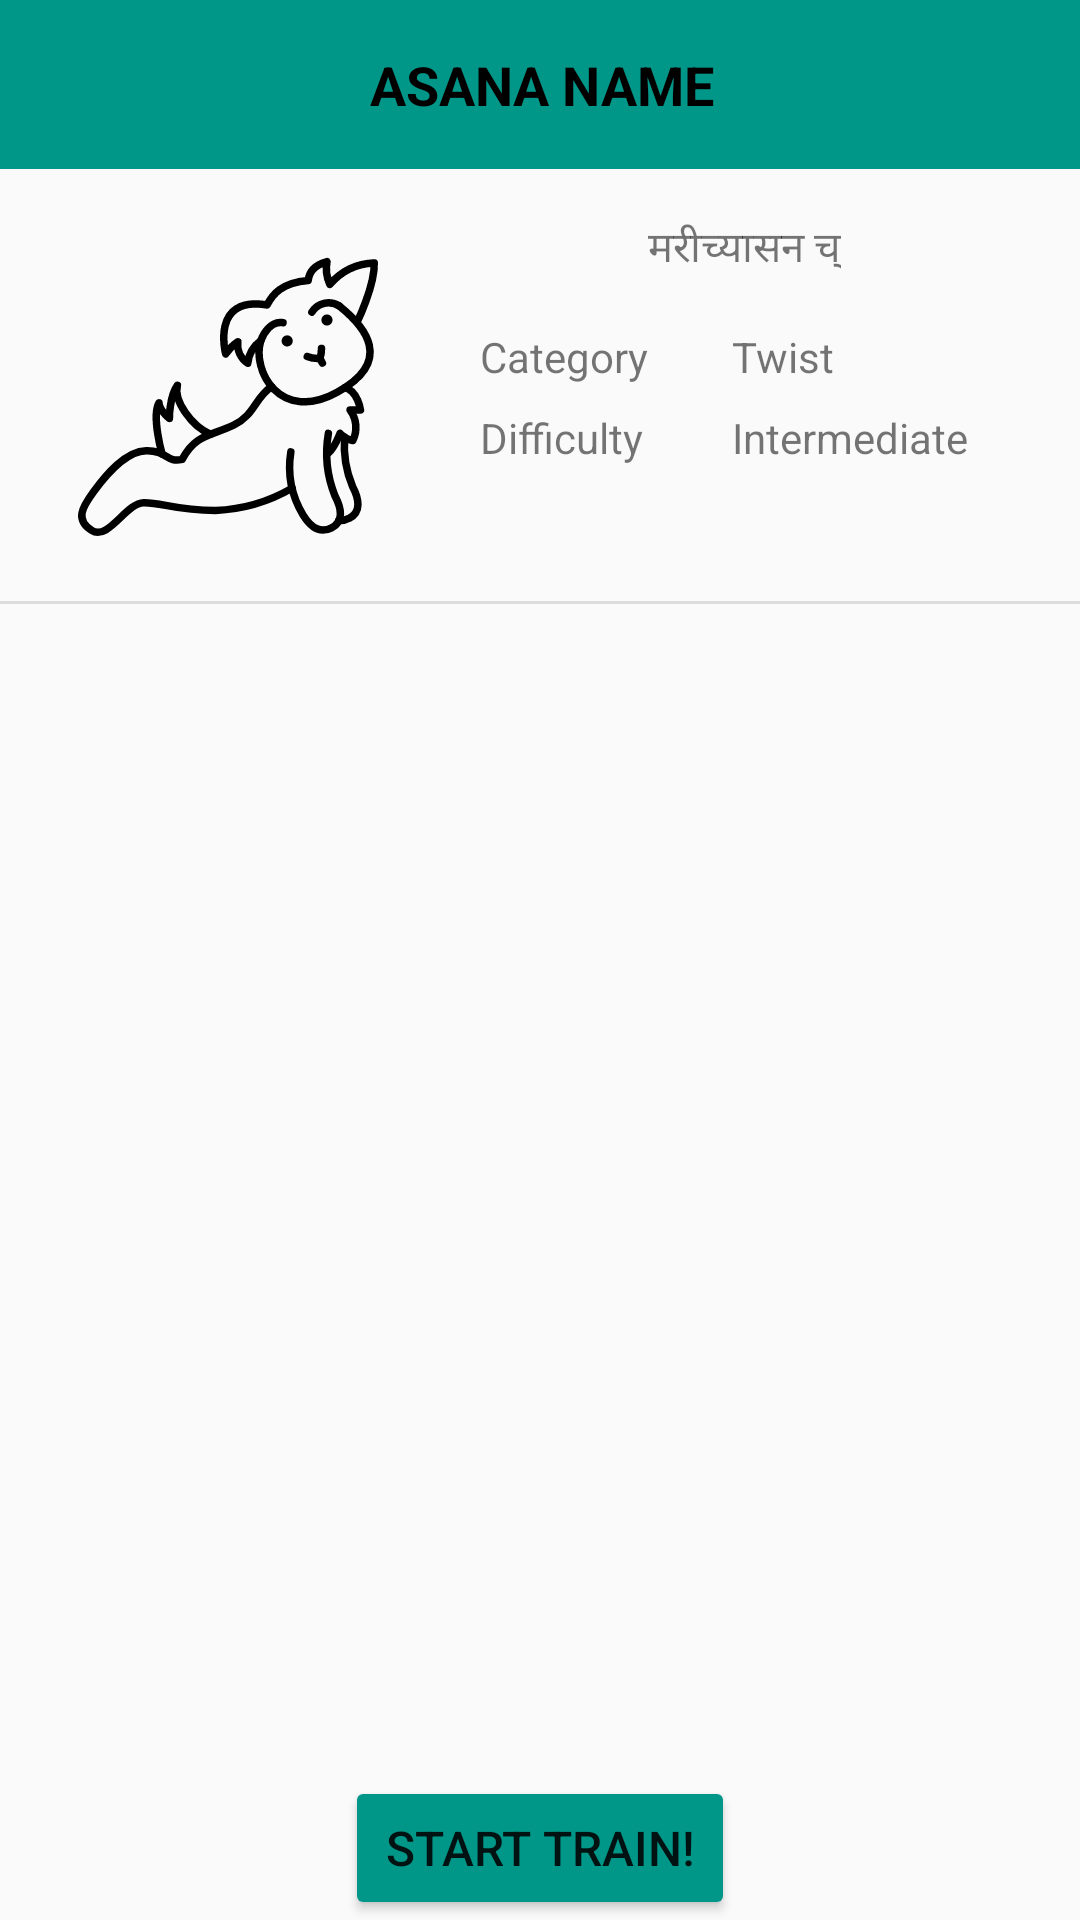

Named icons in this screenshot (1080 × 1920) and their bounding boxes, {"x1": x1, "y1": y1, "x2": x2, "y2": y2}:
yoga first: {"x1": 78, "y1": 257, "x2": 378, "y2": 536}
